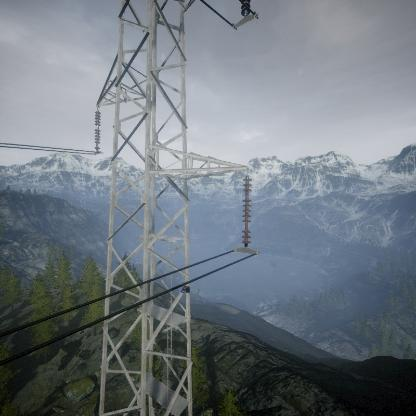insulator: (240, 175, 253, 247), (93, 109, 102, 151)
